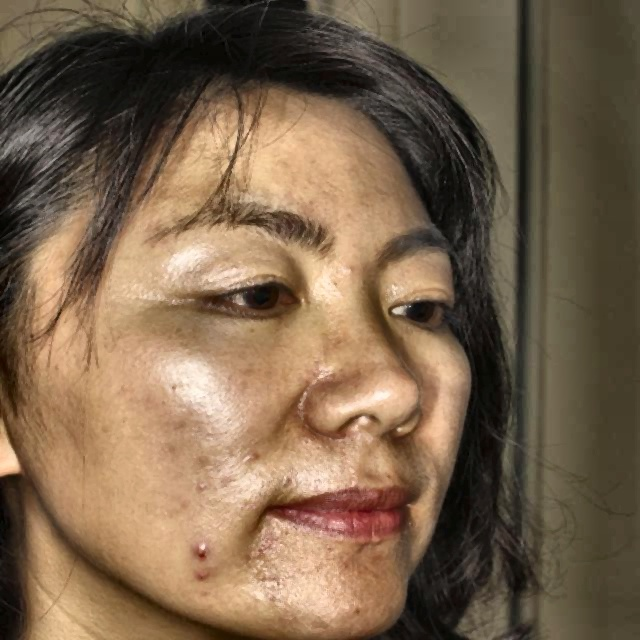comedone: (189, 537, 220, 591)
